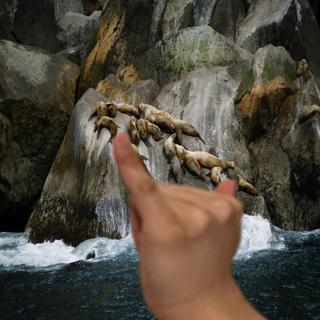HAVE: (97, 128, 257, 320)
